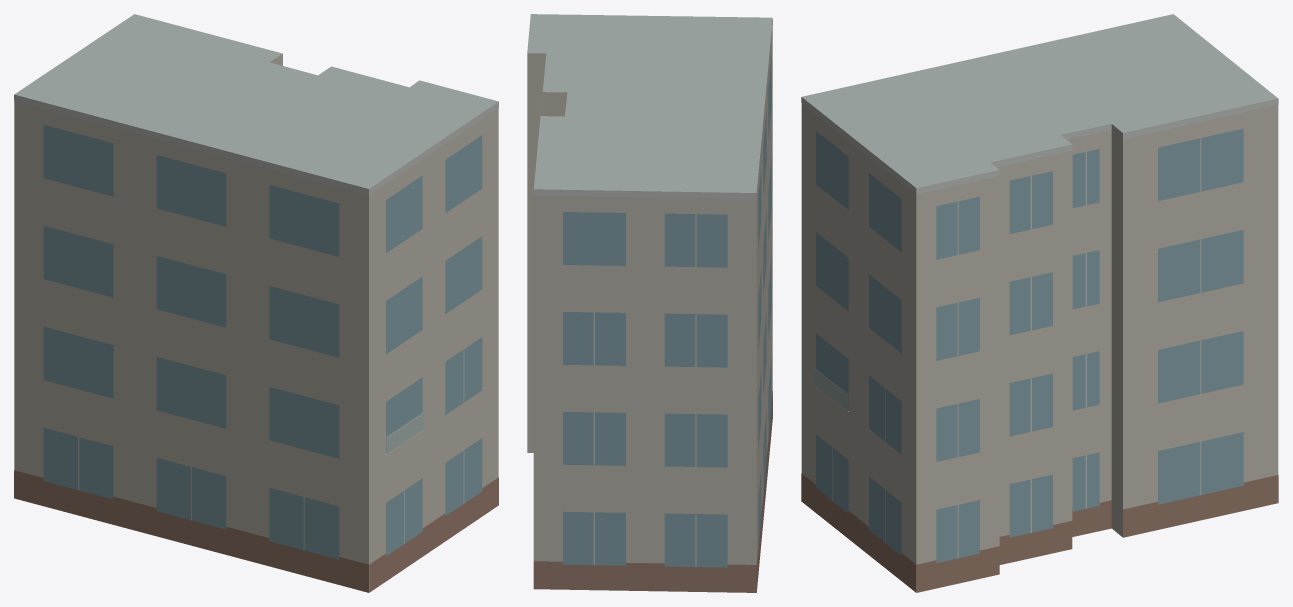
The model's file is survey-upis-32957792.glb.
The picture shows the model from 3 angles, left to right: view 1: azimuth 30°, elevation 25°; view 2: azimuth 150°, elevation 25°; view 3: azimuth 270°, elevation 25°; orthographic projection.
Parts seen in each view (by area): view 1: survey-upis-32957792.tmp; view 2: survey-upis-32957792.tmp; view 3: survey-upis-32957792.tmp.
Part boxes in pixels (<box>): survey-upis-32957792.tmp: <box>14,14,498,592</box>; survey-upis-32957792.tmp: <box>527,14,772,592</box>; survey-upis-32957792.tmp: <box>801,14,1278,592</box>.
Size of the model in its own units: 14.6 by 15.8 by 16.89.
